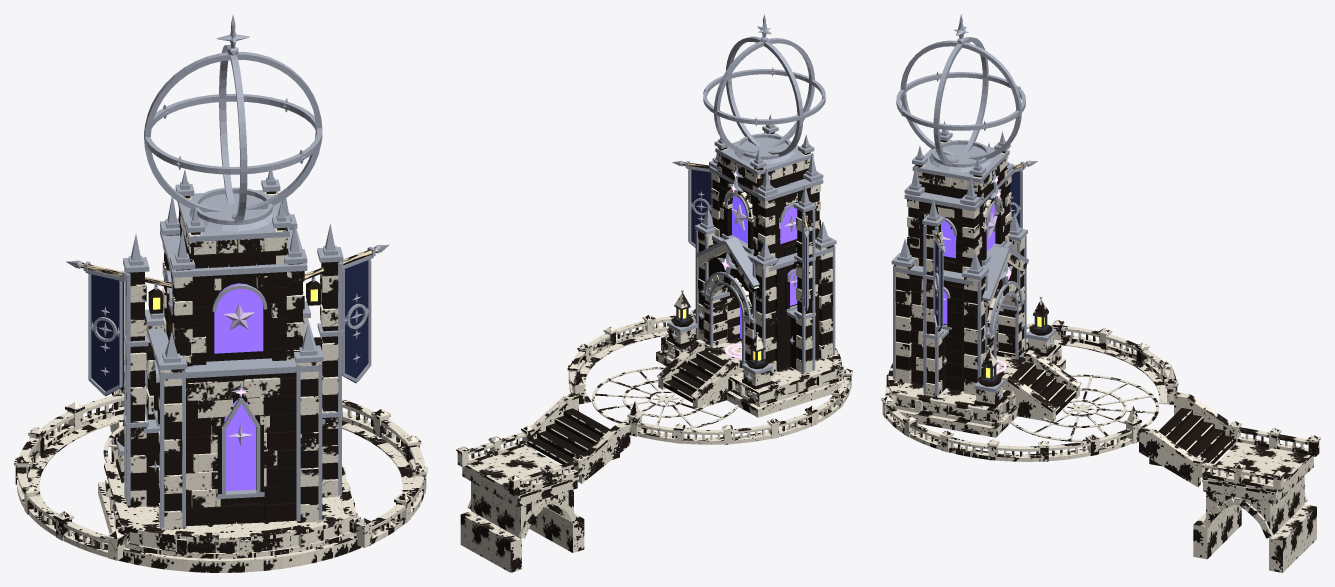
File: ILHA3_06_SUMMON_f6fdb3.fbx
3 views of the same model, side by side, from view 1: azimuth 30°, elevation 25°; view 2: azimuth 150°, elevation 25°; view 3: azimuth 270°, elevation 25° (orthographic). The views are drawn at different scales.
Parts seen in each view (by area): view 1: SG_Sum_Tower_Silver__Metal_SG_Silver, SG_Sum_Tower_Stone__Stone_SG_Castle, SG_Sum_Tower_Stone__Stone_SG_Block, SG_Sum_Sphere_Frame__Metal_SG_Silver, SG_Sum_Tower_Banners__Cloth_SG_Navy, SG_Sum_Tower_Glow__SG_SumPortal_Glow, SG_Sum_Balustrade__Stone_SG_Trim, SG_Sum_Tower_Stone__Stone_SG_Floor, SG_Sum_Base__Stone_SG_Block_B, SG_Sum_BaseTrim__Stone_SG_Trim, SG_Sum_Base__Stone_SG_Floor, SG_Sum_Balustrade__Stone_SG_Block (+7 smaller); view 2: SG_Sum_Tower_Silver__Metal_SG_Silver, SG_Sum_Tower_Stone__Stone_SG_Castle, SG_Sum_Bridge__Stone_SG_Block, SG_Sum_Tower_Stone__Stone_SG_Block, SG_Sum_Sphere_Frame__Metal_SG_Silver, SG_Sum_Bridge__Stone_Paving_SG, SG_Sum_Balustrade__Stone_SG_Trim, SG_Sum_Balustrade__Stone_SG_Block, SG_Sum_Balustrade__Stone_SG_Block_B, SG_Sum_Base__Stone_Paving_SG, SG_Sum_FloorInlay__Stone_SG_Floor, SG_Sum_Bridge__Stone_SG_Trim (+11 smaller); view 3: SG_Sum_Tower_Silver__Metal_SG_Silver, SG_Sum_Tower_Stone__Stone_SG_Castle, SG_Sum_Tower_Stone__Stone_SG_Block, SG_Sum_Bridge__Stone_SG_Block, SG_Sum_Sphere_Frame__Metal_SG_Silver, SG_Sum_Bridge__Stone_Paving_SG, SG_Sum_Balustrade__Stone_SG_Trim, SG_Sum_Balustrade__Stone_SG_Block_B, SG_Sum_Balustrade__Stone_SG_Block, SG_Sum_Bridge__Stone_SG_Trim, SG_Sum_FloorInlay__Stone_SG_Floor, SG_Sum_Base__Stone_SG_Block (+10 smaller).
Part boxes in pixels (left/top/right/bottom): SG_Sum_Tower_Silver__Metal_SG_Silver: left=66, top=169, right=389, bottom=528; SG_Sum_Tower_Stone__Stone_SG_Castle: left=127, top=191, right=339, bottom=526; SG_Sum_Tower_Stone__Stone_SG_Block: left=118, top=191, right=340, bottom=529; SG_Sum_Sphere_Frame__Metal_SG_Silver: left=144, top=14, right=322, bottom=223; SG_Sum_Tower_Banners__Cloth_SG_Navy: left=88, top=259, right=370, bottom=396; SG_Sum_Tower_Glow__SG_SumPortal_Glow: left=214, top=283, right=263, bottom=491; SG_Sum_Balustrade__Stone_SG_Trim: left=14, top=355, right=427, bottom=543; SG_Sum_Tower_Stone__Stone_SG_Floor: left=116, top=240, right=322, bottom=522; SG_Sum_Base__Stone_SG_Block_B: left=105, top=479, right=361, bottom=572; SG_Sum_BaseTrim__Stone_SG_Trim: left=104, top=462, right=357, bottom=541; SG_Sum_Base__Stone_SG_Floor: left=105, top=476, right=356, bottom=558; SG_Sum_Balustrade__Stone_SG_Block: left=15, top=389, right=426, bottom=557; SG_Sum_Tower_Silver__Metal_SG_Silver: left=667, top=114, right=836, bottom=381; SG_Sum_Tower_Stone__Stone_SG_Castle: left=674, top=132, right=832, bottom=370; SG_Sum_Bridge__Stone_SG_Block: left=460, top=398, right=630, bottom=572; SG_Sum_Tower_Stone__Stone_SG_Block: left=669, top=133, right=834, bottom=385; SG_Sum_Sphere_Frame__Metal_SG_Silver: left=703, top=14, right=825, bottom=156; SG_Sum_Bridge__Stone_Paving_SG: left=465, top=408, right=619, bottom=495; SG_Sum_Balustrade__Stone_SG_Trim: left=456, top=309, right=852, bottom=483; SG_Sum_Balustrade__Stone_SG_Block: left=520, top=320, right=850, bottom=492; SG_Sum_Balustrade__Stone_SG_Block_B: left=457, top=316, right=851, bottom=495; SG_Sum_Base__Stone_Paving_SG: left=663, top=338, right=743, bottom=402; SG_Sum_FloorInlay__Stone_SG_Floor: left=591, top=367, right=738, bottom=430; SG_Sum_Bridge__Stone_SG_Trim: left=467, top=393, right=630, bottom=538; SG_Sum_Tower_Silver__Metal_SG_Silver: left=891, top=121, right=1056, bottom=398; SG_Sum_Tower_Stone__Stone_SG_Castle: left=896, top=140, right=1048, bottom=391; SG_Sum_Tower_Stone__Stone_SG_Block: left=894, top=140, right=1054, bottom=404; SG_Sum_Bridge__Stone_SG_Block: left=1139, top=398, right=1316, bottom=572; SG_Sum_Sphere_Frame__Metal_SG_Silver: left=896, top=14, right=1025, bottom=165; SG_Sum_Bridge__Stone_Paving_SG: left=1149, top=408, right=1311, bottom=492; SG_Sum_Balustrade__Stone_SG_Trim: left=881, top=320, right=1320, bottom=479; SG_Sum_Balustrade__Stone_SG_Block_B: left=882, top=331, right=1319, bottom=491; SG_Sum_Balustrade__Stone_SG_Block: left=890, top=326, right=1308, bottom=477; SG_Sum_Bridge__Stone_SG_Trim: left=1138, top=392, right=1307, bottom=538; SG_Sum_FloorInlay__Stone_SG_Floor: left=1010, top=374, right=1159, bottom=441; SG_Sum_Base__Stone_SG_Block: left=890, top=348, right=1065, bottom=437.
Size of the model in its own units: 45.58 by 77.6 by 64.2.
Materials: 9 (2 with a texture image).
